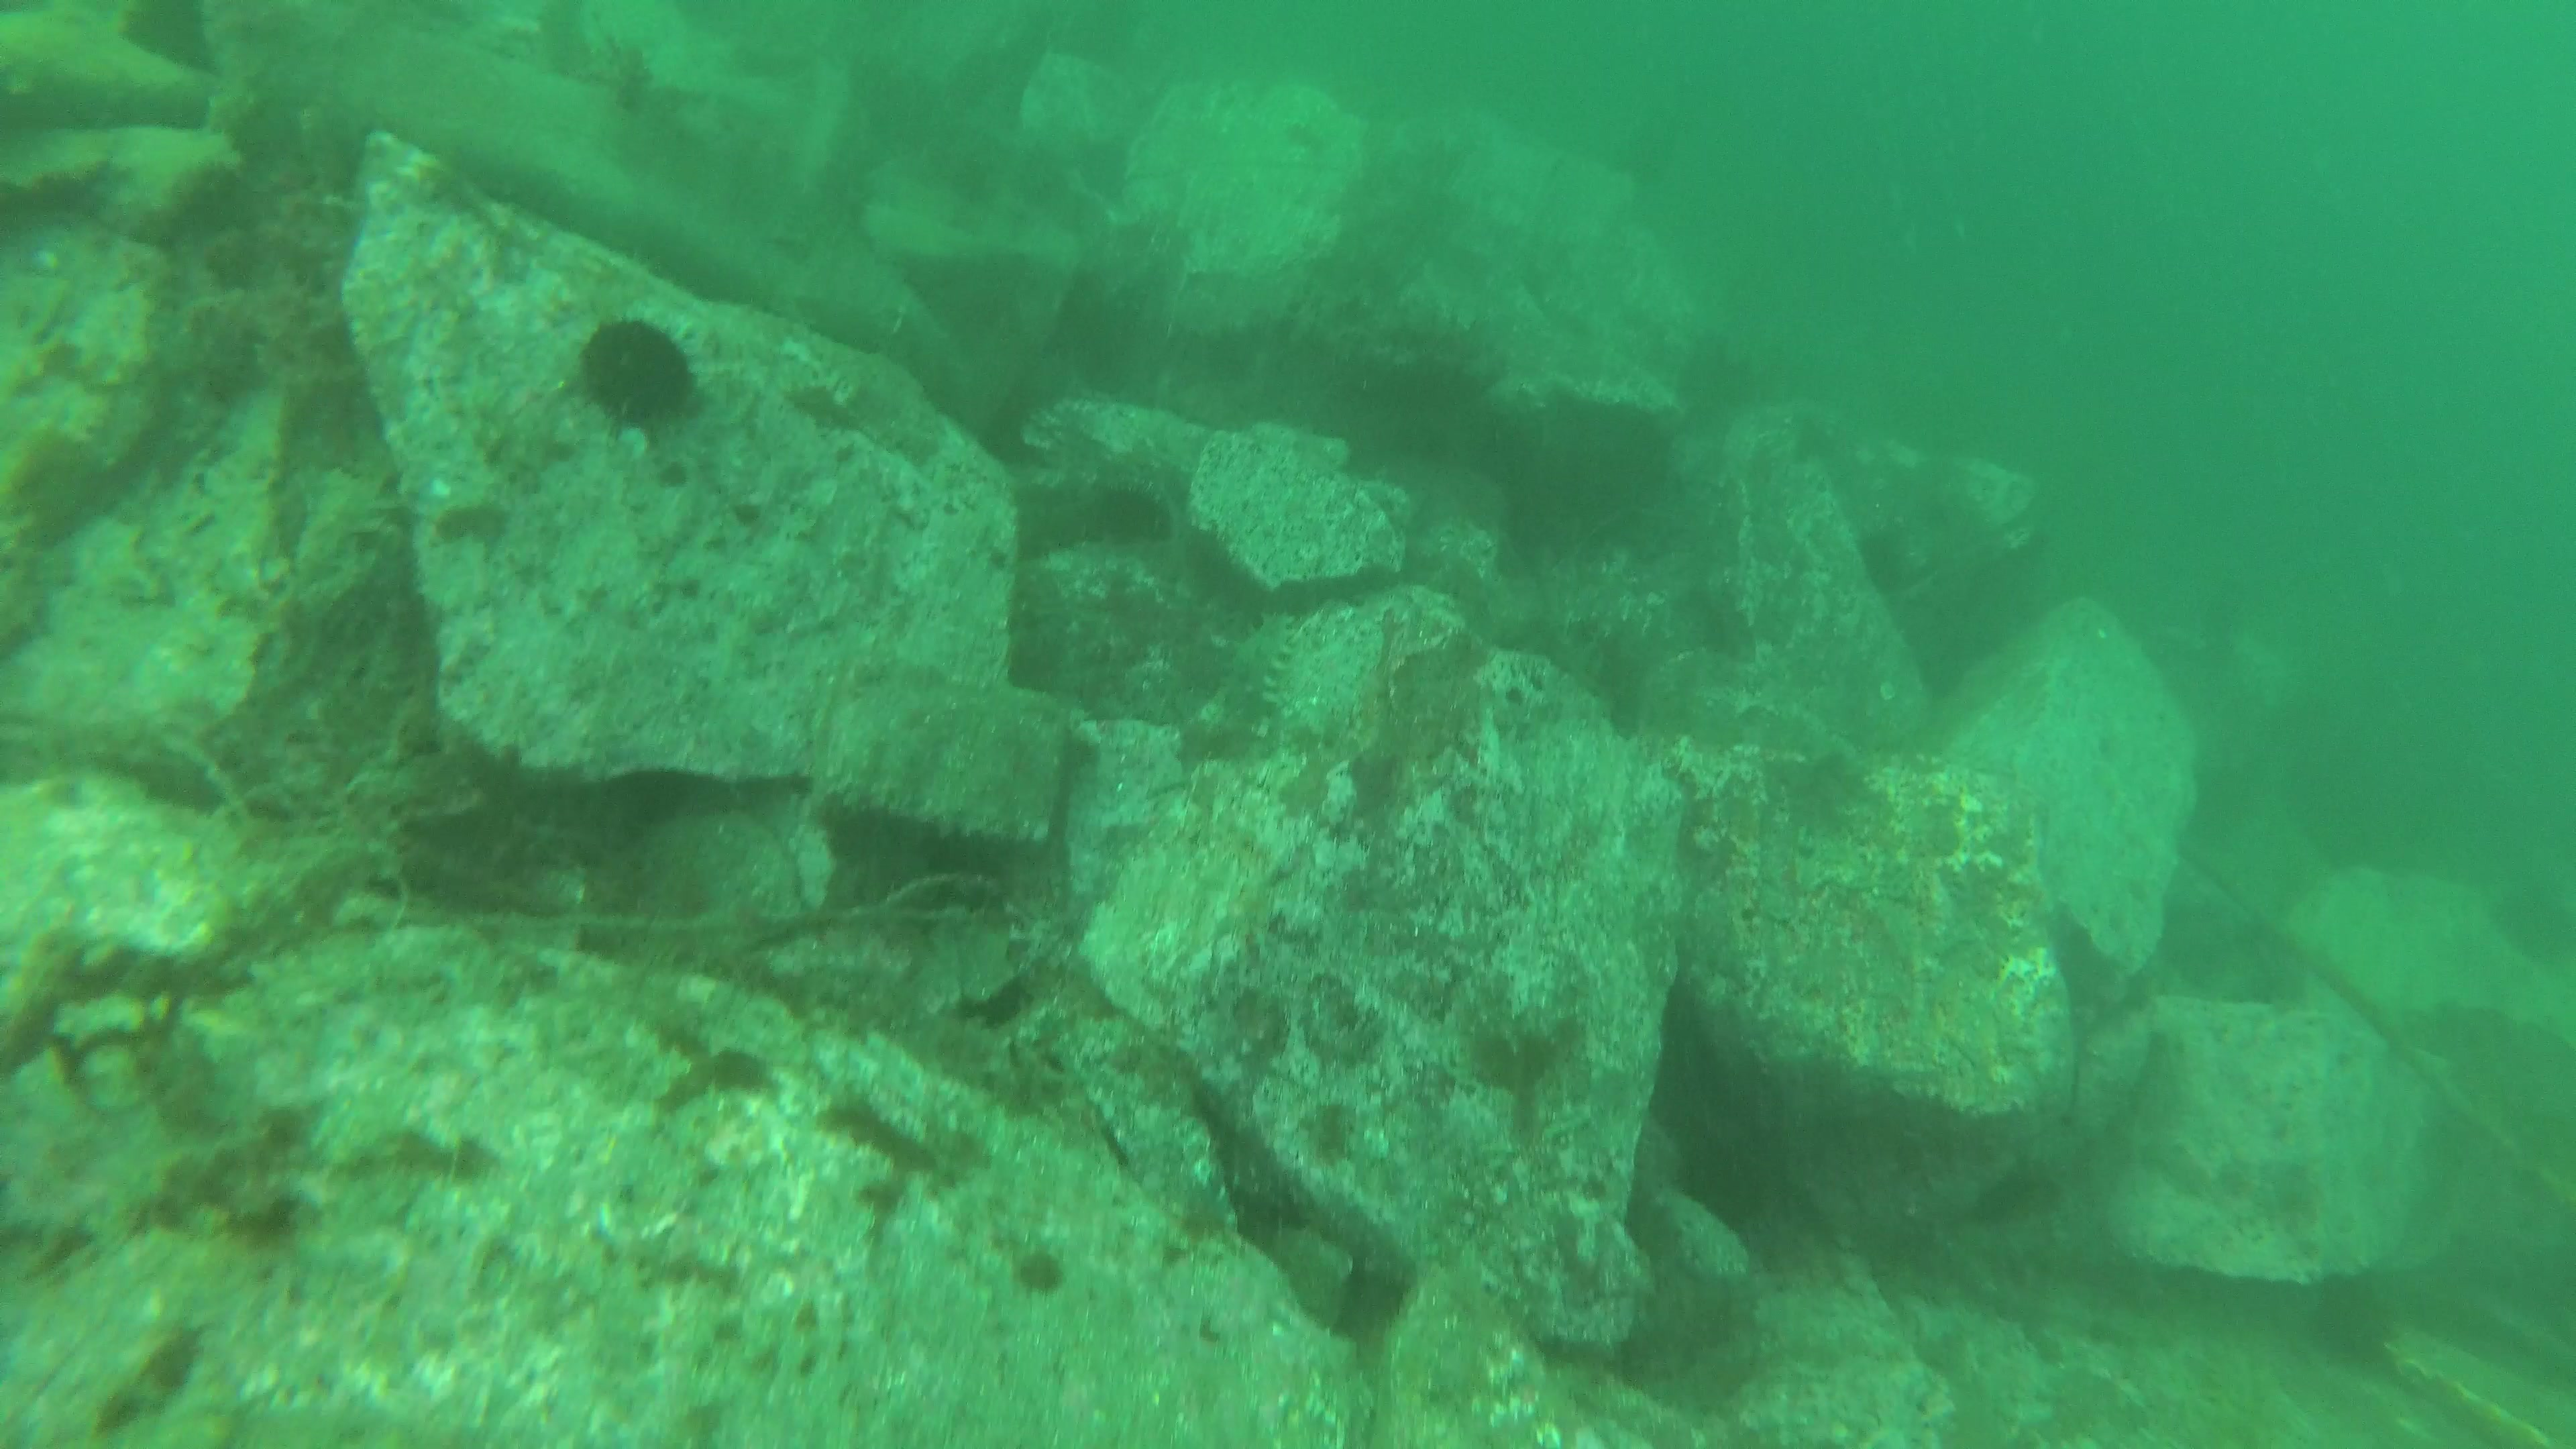echinus: (579, 303, 699, 425)
holothurian: (1219, 605, 1302, 734)
